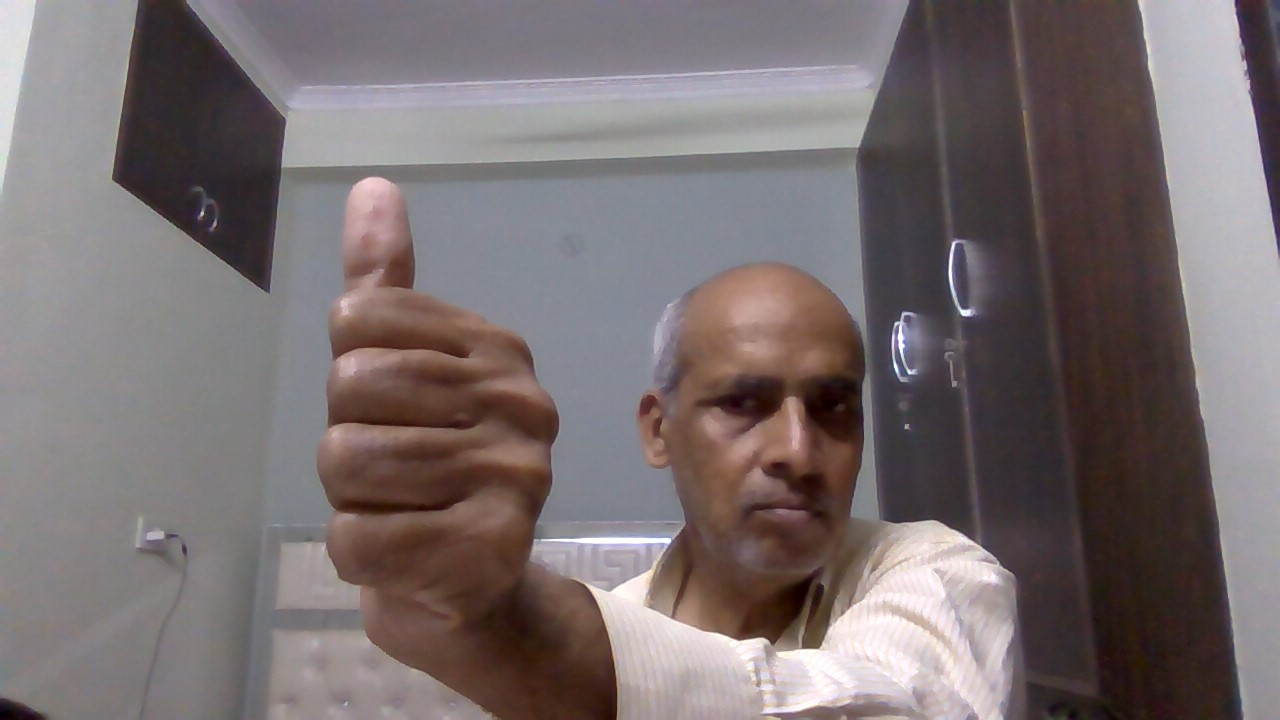Save: (302, 166, 572, 674)
